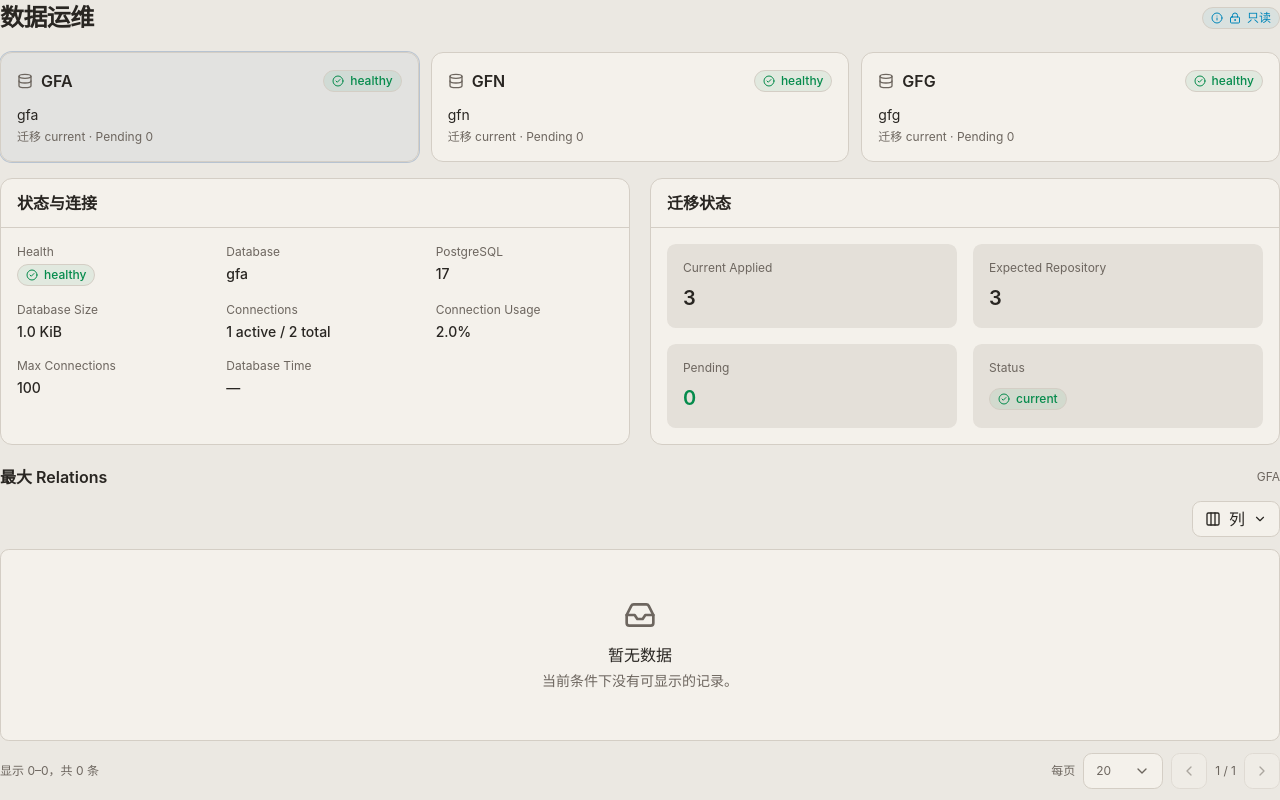
Test case: Data Operations database cards › selects on first click and opens technical details on the selected card
What coordinates should you click on to do the following:
click the button "GFN healthy gfn 迁移 current · Pending 0"
I would click on:
 (488, 81)
Its box is x1=431 y1=52 x2=849 y2=162.
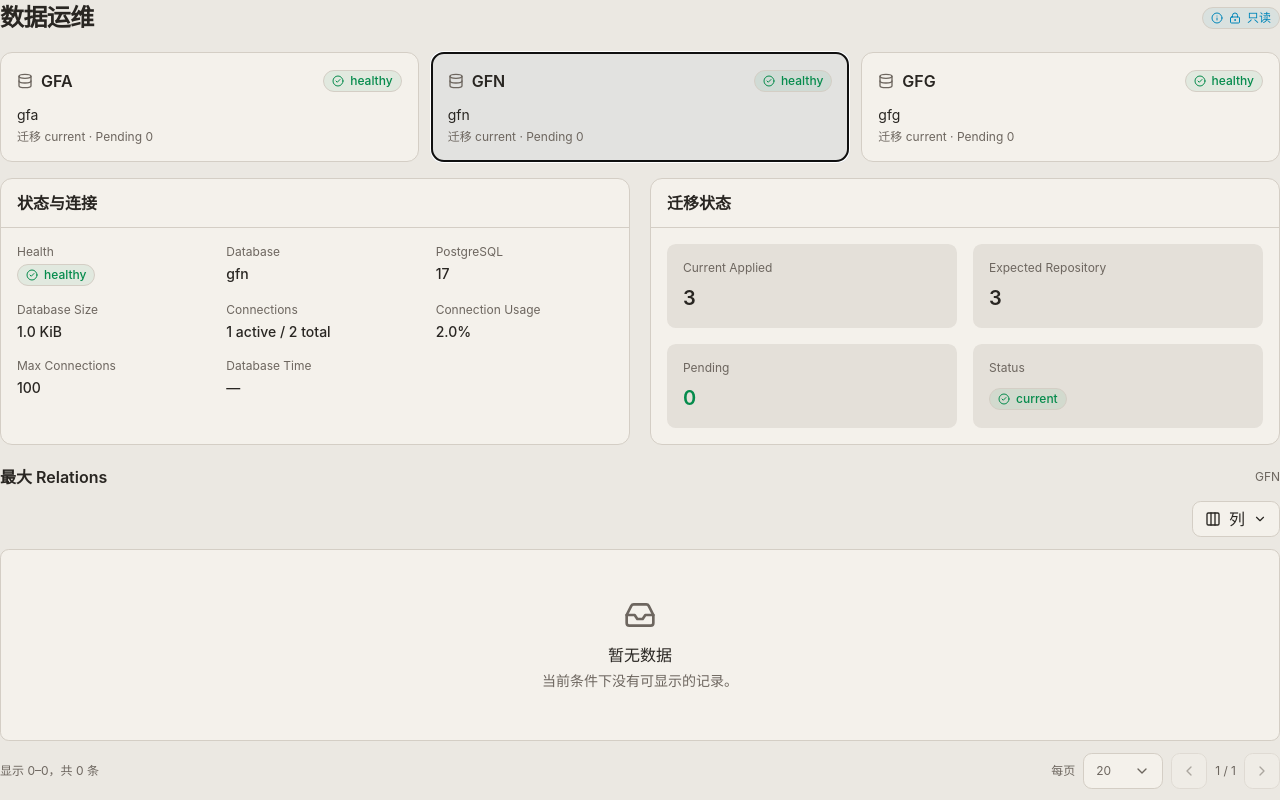
Expected: the text "技术详情 · GFN" is not shown
Result: the button "GFN healthy gfn 迁移 current · Pending 0" is pressed
What coordinates should you click on to do the following:
click the button "GFN healthy gfn 迁移 current · Pending 0"
I would click on:
 (488, 81)
Its box is x1=431 y1=52 x2=849 y2=162.
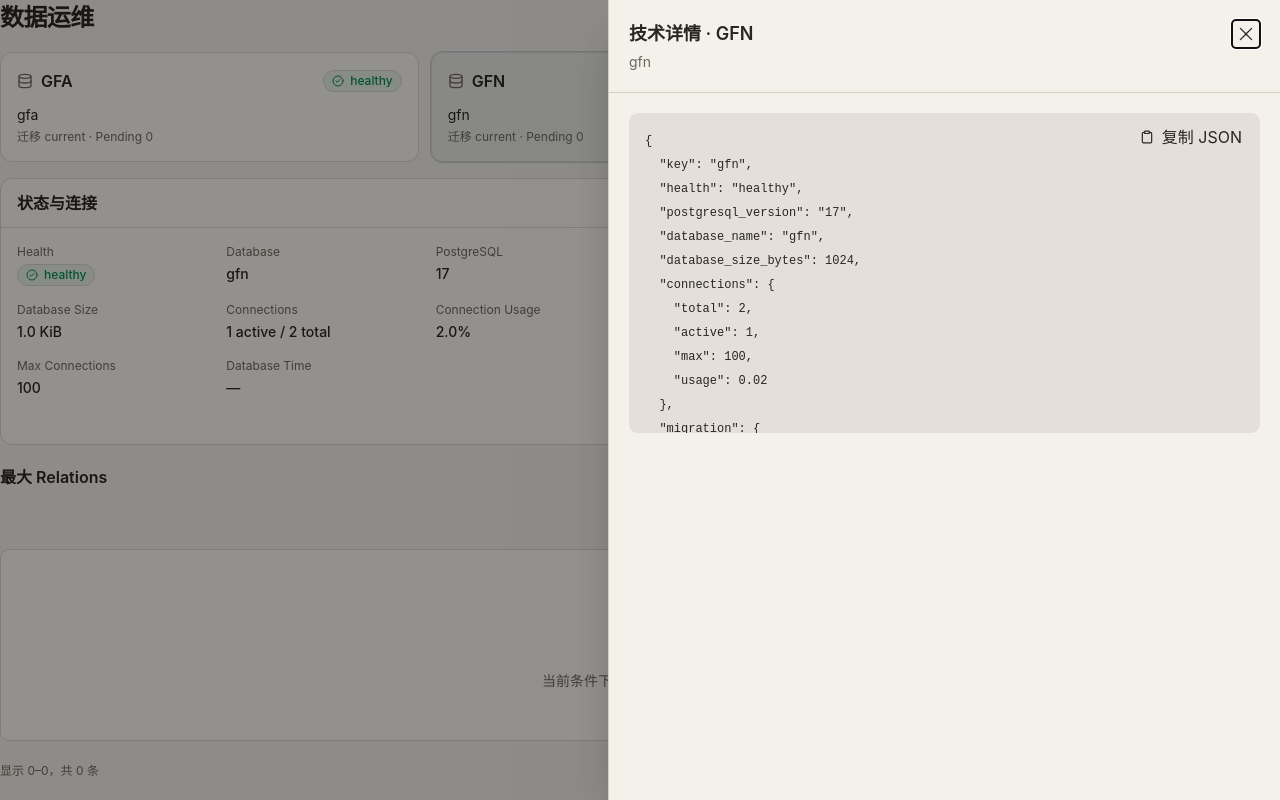
Result: the heading "技术详情 · GFN" is shown at x1=629 y1=20 x2=754 y2=48
